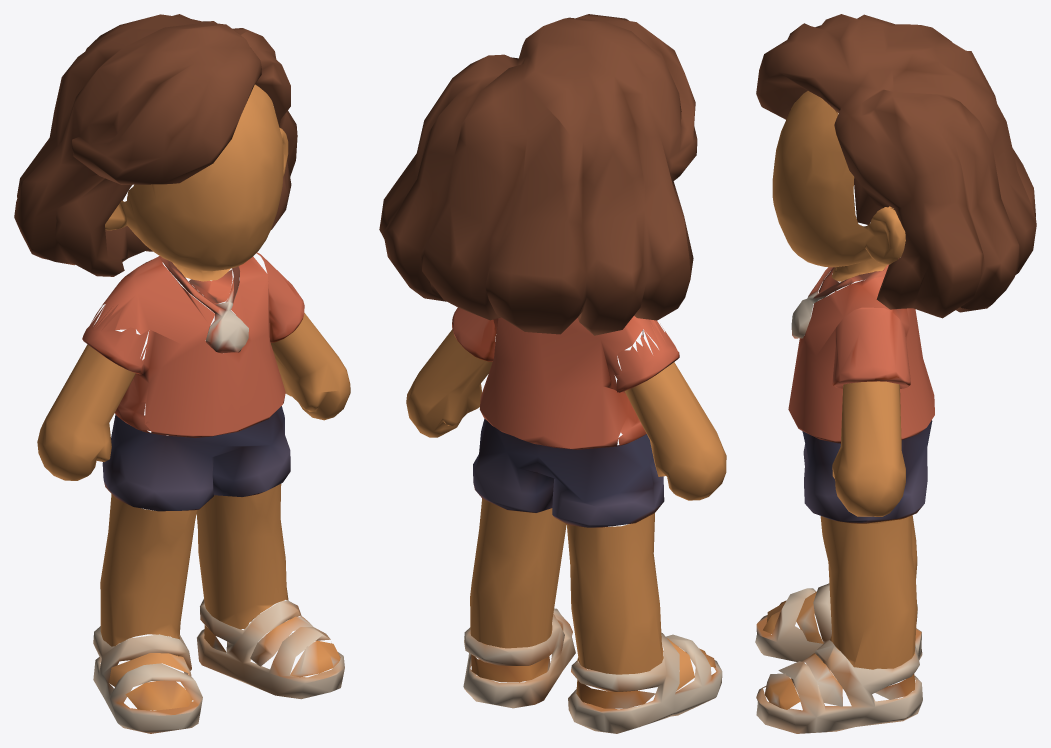
The picture shows the model from 3 angles, left to right: view 1: azimuth 30°, elevation 25°; view 2: azimuth 150°, elevation 25°; view 3: azimuth 270°, elevation 25°; orthographic projection. The views are drawn at different scales.
Visible parts, largest first — view 1: hair, top, head, leg_r, leg_l, shoe_l, shoe_r, hand_r, hand_l, sleeve_r, sleeve_l; view 2: hair, top, leg_r, leg_l, shoe_r, hand_r, shoe_l, hand_l, sleeve_r, sleeve_l; view 3: hair, top, head, leg_l, shoe_l, hand_l, sleeve_l, shoe_r.
Boxes of the visible parts, x1,y1,x2,y2 form: hair: [14, 14, 297, 276]; top: [94, 256, 290, 511]; head: [105, 84, 288, 281]; leg_r: [100, 494, 197, 646]; leg_l: [196, 484, 288, 629]; shoe_l: [197, 599, 344, 699]; shoe_r: [93, 626, 202, 733]; hand_r: [37, 344, 135, 480]; hand_l: [271, 313, 350, 420]; sleeve_r: [82, 304, 151, 433]; sleeve_l: [256, 252, 304, 342]; hair: [379, 14, 697, 335]; top: [473, 316, 665, 527]; leg_r: [566, 513, 663, 674]; leg_l: [470, 498, 566, 648]; shoe_r: [568, 632, 722, 733]; hand_r: [624, 362, 726, 500]; shoe_l: [463, 608, 575, 708]; hand_l: [406, 329, 492, 437]; sleeve_r: [615, 320, 679, 446]; sleeve_l: [452, 307, 496, 361]; hair: [756, 14, 1036, 318]; top: [788, 258, 934, 523]; head: [772, 91, 905, 281]; leg_l: [820, 515, 917, 669]; shoe_l: [756, 640, 922, 733]; hand_l: [832, 381, 905, 516]; sleeve_l: [832, 307, 910, 388]; shoe_r: [755, 583, 922, 661].
Bounding box in the file's own units: 0.4939 × 1.03 × 0.401.
